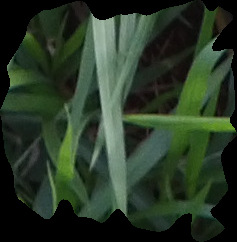grass: (1, 1, 236, 240)
